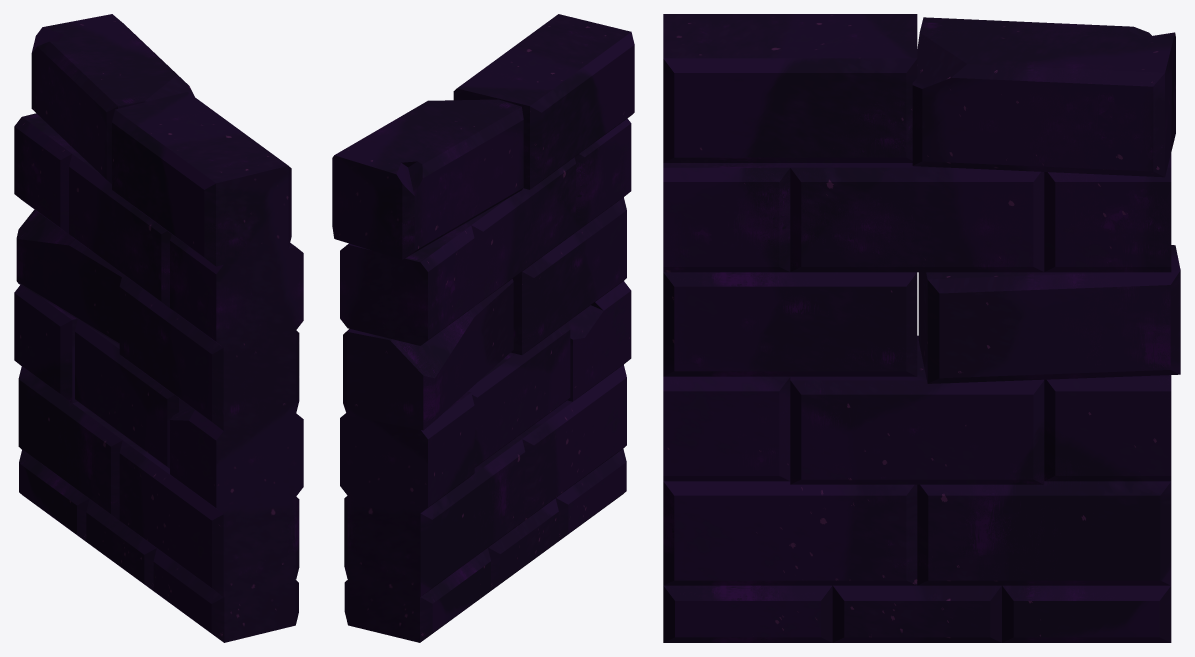
File: gen_wall_6.fbx
3 views of the same model, side by side, from view 1: azimuth 30°, elevation 25°; view 2: azimuth 150°, elevation 25°; view 3: azimuth 270°, elevation 25° (orthographic). The views are drawn at different scales.
Parts seen in each view (by area): view 1: gen_wall_6; view 2: gen_wall_6; view 3: gen_wall_6.
Boxes of the visible parts, box(x1,y1,x2,y2) form: gen_wall_6: box(14, 14, 303, 642); gen_wall_6: box(332, 14, 634, 642); gen_wall_6: box(663, 14, 1180, 642).
Size of the model in its own units: 251 by 1008 by 815.
